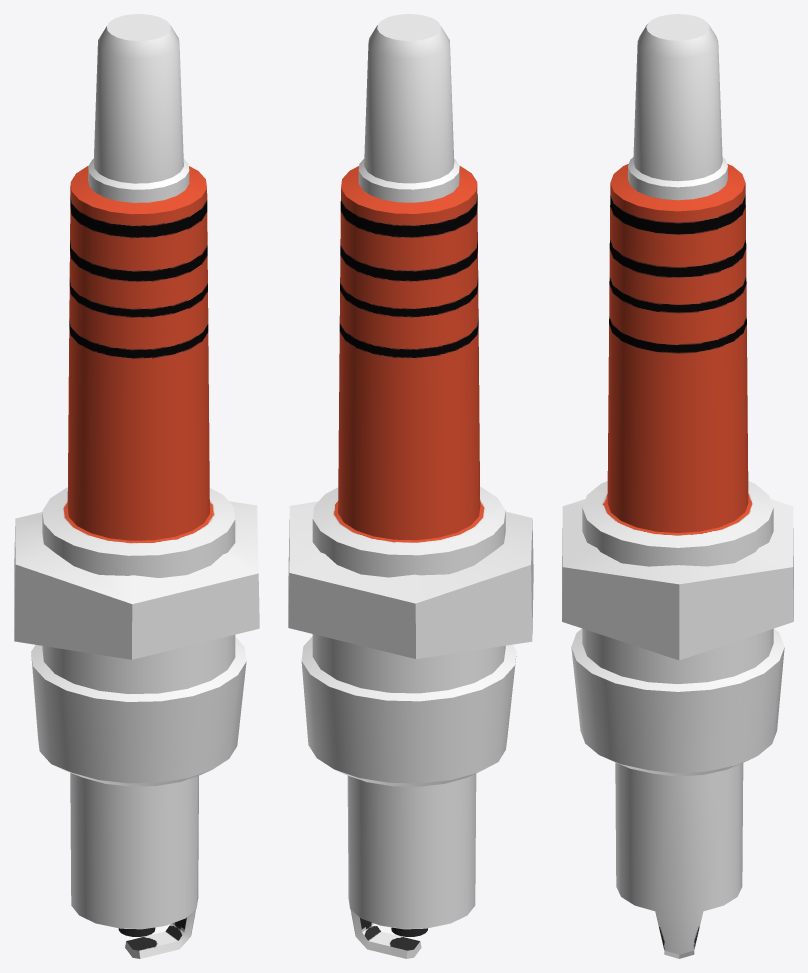
The model's file is spark_plug_lowploy_game_ready.glb.
The picture shows the model from 3 angles, left to right: view 1: azimuth 30°, elevation 25°; view 2: azimuth 150°, elevation 25°; view 3: azimuth 270°, elevation 25°; orthographic projection.
Visible parts, largest first — view 1: PLUG_LOW; view 2: PLUG_LOW; view 3: PLUG_LOW.
Boxes of the visible parts, x1,y1,x2,y2 form: PLUG_LOW: [14, 14, 259, 958]; PLUG_LOW: [288, 14, 533, 958]; PLUG_LOW: [562, 14, 793, 958].
Size of the model in its own units: 0.9385 by 3.41 by 0.7832.
1 material, 1 textured.
